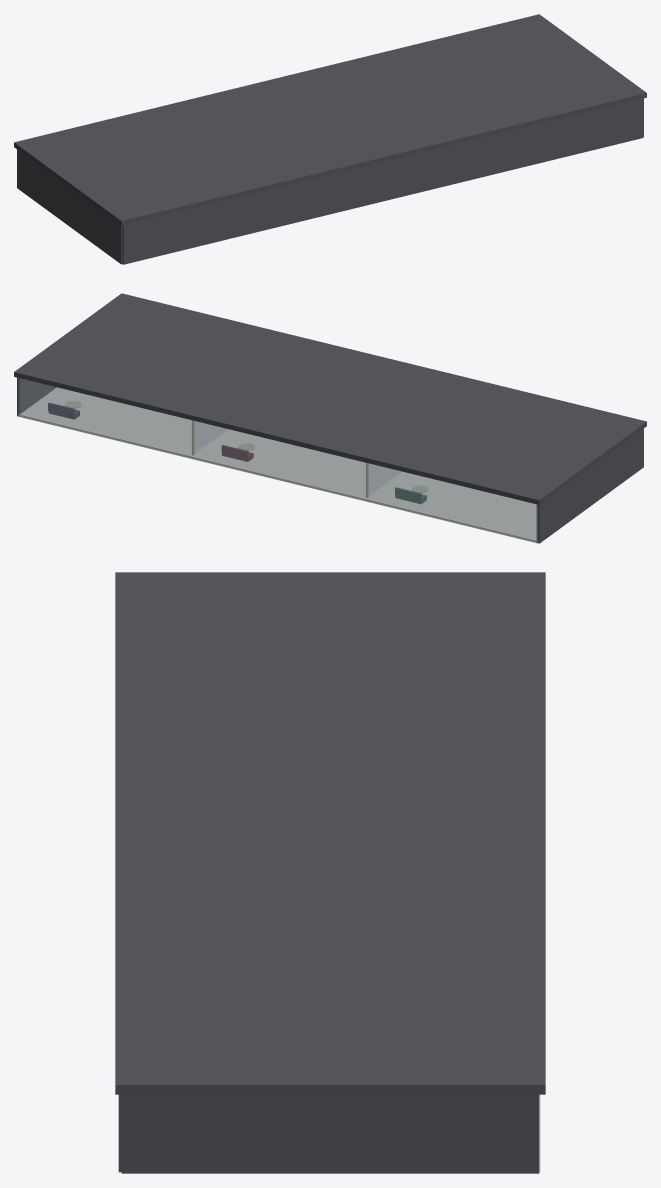
Rendered from exec-offices.glb.
The picture shows the model from 3 angles, top to bottom: view 1: azimuth 30°, elevation 25°; view 2: azimuth 150°, elevation 25°; view 3: azimuth 270°, elevation 25°; orthographic projection. The views are drawn at different scales.
Visible parts, largest first — view 1: Exo_Roof, Exo_Wall_Back, Exo_Wall_Left; view 2: Exo_Roof, Exo_Wall_FrontGlass, Exo_Floor, Exo_Wall_Left, Exo_Wall_Right, Exo_Partition_0, Exo_Partition_1; view 3: Exo_Roof, Exo_Wall_Right.
Boxes of the visible parts, bbox=[...] form: Exo_Roof: bbox=[14, 14, 646, 225]; Exo_Wall_Back: bbox=[122, 98, 643, 264]; Exo_Wall_Left: bbox=[17, 149, 122, 264]; Exo_Roof: bbox=[14, 293, 646, 504]; Exo_Wall_FrontGlass: bbox=[18, 378, 537, 543]; Exo_Floor: bbox=[18, 387, 538, 542]; Exo_Wall_Left: bbox=[536, 428, 643, 543]; Exo_Wall_Right: bbox=[17, 377, 56, 416]; Exo_Partition_0: bbox=[366, 463, 400, 497]; Exo_Partition_1: bbox=[192, 421, 227, 454]; Exo_Roof: bbox=[115, 572, 545, 1094]; Exo_Wall_Right: bbox=[121, 1094, 539, 1173].
Size of the model in its own units: 46.5 by 3.8 by 16.5.
